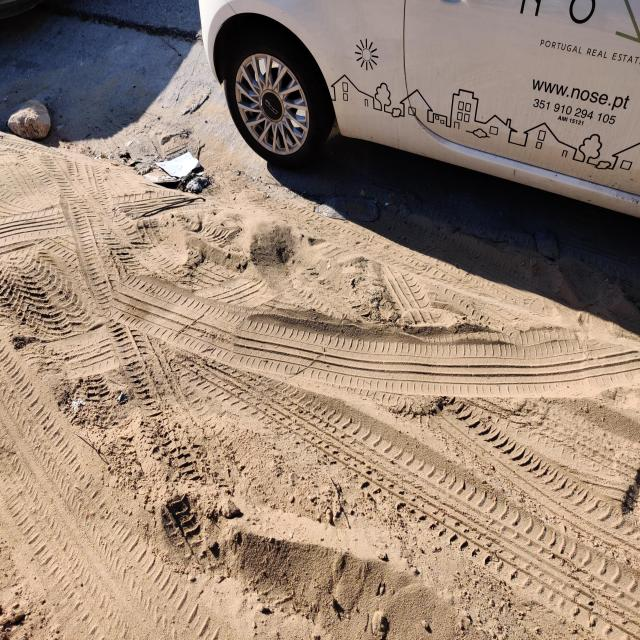litter: (141, 128, 208, 197)
